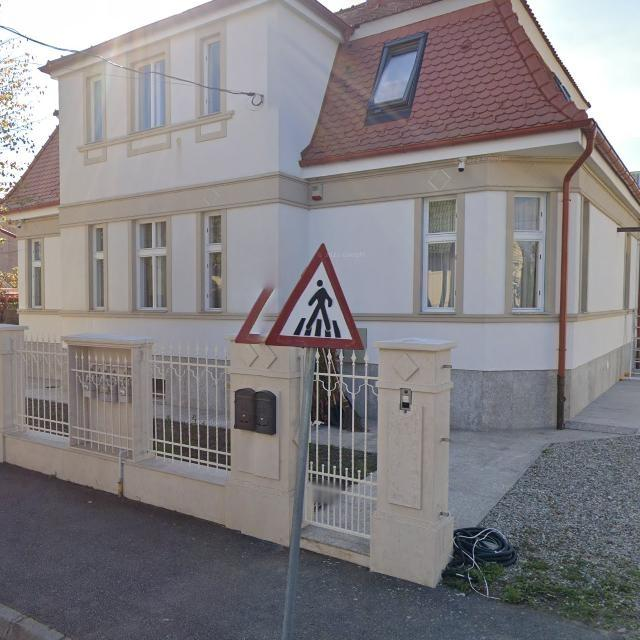warn_crosswalk: (269, 242, 365, 350)
